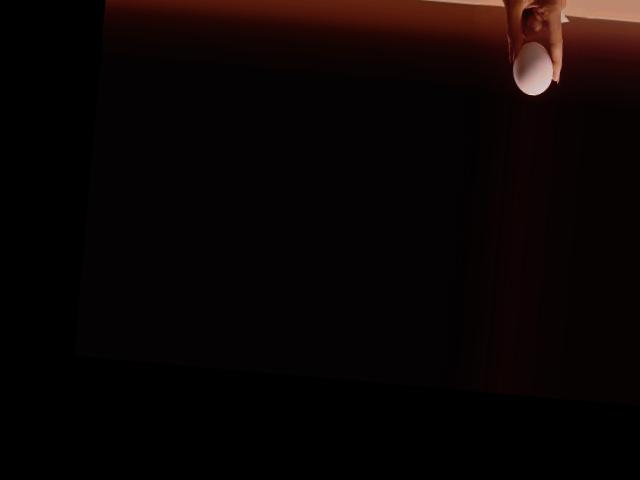egg: (510, 39, 555, 97)
